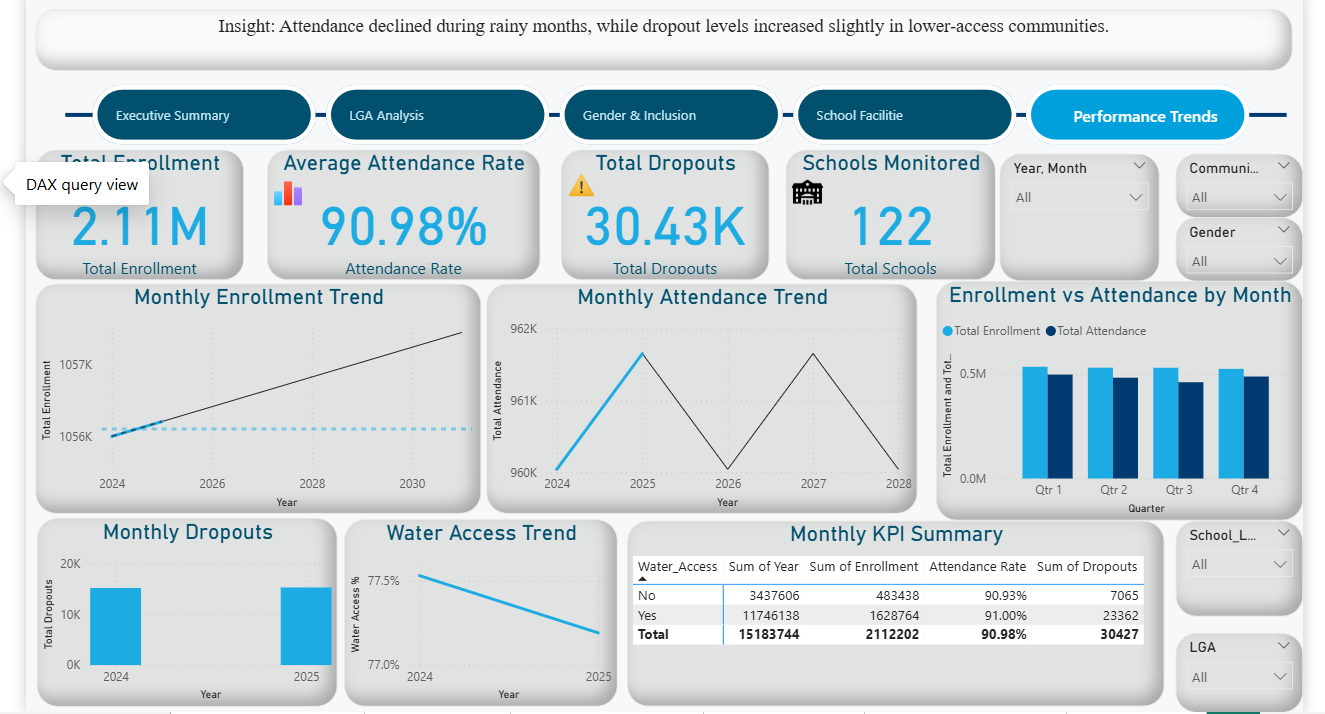

This screenshot's page, from the dashboard's own definition file:
{"tool":"powerbi","page":{"name":"Performance Trends ","canvas":[1280,720],"ordinal":4},"visuals":[{"type":"textbox","box":[10.1,14.4,1260,61.9],"z":0},{"type":"lineChart","title":"Monthly Enrollment Trend","fields":{"Category":["Raw_Data.Date.Variation.Date Hierarchy.Year","Raw_Data.Date.Variation.Date Hierarchy.Quarter","Raw_Data.Date.Variation.Date Hierarchy.Month","Raw_Data.Date.Variation.Date Hierarchy.Day"],"Y":["Raw_Data.Total Enrollment"]},"box":[10.1,290.9,446.4,230.4],"z":1000},{"type":"card","title":"Total Enrollment","fields":{"Values":["Raw_Data.Total Enrollment"]},"box":[10.1,156.2,208.8,131],"z":2000,"group":"g1"},{"type":"lineChart","title":"Monthly Attendance Trend","fields":{"Category":["Raw_Data.Date.Variation.Date Hierarchy.Year","Raw_Data.Date.Variation.Date Hierarchy.Quarter","Raw_Data.Date.Variation.Date Hierarchy.Month","Raw_Data.Date.Variation.Date Hierarchy.Day"],"Y":["Raw_Data.Total Attendance"]},"box":[460.8,290.9,432,230.4],"z":2000},{"type":"clusteredColumnChart","title":"Enrollment vs Attendance by Month","fields":{"Category":["Raw_Data.Date.Variation.Date Hierarchy.Year","Raw_Data.Date.Variation.Date Hierarchy.Quarter","Raw_Data.Date.Variation.Date Hierarchy.Month","Raw_Data.Date.Variation.Date Hierarchy.Day"],"Y":["Raw_Data.Total Enrollment","Raw_Data.Total Attendance"]},"box":[912,288,368,240],"z":3000},{"type":"card","title":"Average Attendance Rate","fields":{"Values":["Raw_Data.Attendance Rate"]},"box":[241.9,156.2,273.6,131],"z":4000,"group":"g2"},{"type":"clusteredColumnChart","title":"Monthly Dropouts","fields":{"Category":["Raw_Data.Date.Variation.Date Hierarchy.Year","Raw_Data.Date.Variation.Date Hierarchy.Quarter","Raw_Data.Date.Variation.Date Hierarchy.Month","Raw_Data.Date.Variation.Date Hierarchy.Day"],"Y":["Raw_Data.Total Dropouts"]},"box":[10.2,525.4,301.5,188.8],"z":4000},{"type":"lineChart","title":"Water Access Trend","fields":{"Category":["Raw_Data.Date.Variation.Date Hierarchy.Year","Raw_Data.Date.Variation.Date Hierarchy.Quarter","Raw_Data.Date.Variation.Date Hierarchy.Month","Raw_Data.Date.Variation.Date Hierarchy.Day"],"Y":["Raw_Data.Water Access %"]},"box":[319,526.8,273.7,187.3],"z":5000},{"type":"card","title":"Total Dropouts","fields":{"Values":["Raw_Data.Total Dropouts"]},"box":[535.7,156.2,208.8,131],"z":6000,"group":"g3"},{"type":"pivotTable","title":"Monthly KPI Summary","fields":{"Values":["Sum(Raw_Data.Year)","Sum(Raw_Data.Enrollment)","Raw_Data.Attendance Rate","Sum(Raw_Data.Dropouts)"],"Rows":["Raw_Data.Water_Access"]},"box":[602.9,528.3,538.5,185.9],"z":6000},{"type":"slicer","fields":{"Values":["Raw_Data.Year","Raw_Data.Month"]},"box":[976,160,160,128],"z":7000},{"type":"card","title":"Schools Monitored","fields":{"Values":["Raw_Data.Total Schools"]},"box":[761.8,156.2,210.2,131],"z":8000,"group":"g4"},{"type":"slicer","fields":{"Values":["Raw_Data.LGA"]},"box":[1152,640,128,80],"z":8000},{"type":"slicer","fields":{"Values":["Raw_Data.Community_Type"]},"box":[1152,160,128,64],"z":9000},{"type":"slicer","fields":{"Values":["Raw_Data.School_Level"]},"box":[1152,528,128,96],"z":10000},{"type":"slicer","fields":{"Values":["Raw_Data.Gender"]},"box":[1152,224,128,64],"z":11000},{"type":"group","id":"g1","title":"Group 1","box":[10.1,156.2,208.8,131],"z":12000},{"type":"group","id":"g2","title":"Group 2","box":[241.9,156.2,273.6,131],"z":13000},{"type":"group","id":"g3","title":"Group 3","box":[531.4,156.2,213.1,131],"z":14000},{"type":"group","id":"g4","title":"Group 4","box":[761.8,156.2,210.2,131],"z":15000},{"type":"shape","box":[38.9,90.7,1224,60.5],"z":16000},{"type":"image","box":[10.1,172,44.6,50.4],"z":16000,"group":"g1"},{"type":"pageNavigator","box":[66.2,90.7,1160.6,60.5],"z":17000},{"type":"image","box":[241.9,172,41.8,56.2],"z":17000,"group":"g2"},{"type":"image","box":[531.4,172,49,38.9],"z":18000,"group":"g3"},{"type":"image","box":[761.8,172,43.2,51.8],"z":19000,"group":"g4"}]}

Visuals, with their boxes on the page's 1280x720 design canvas (x1, y1, x2, y2). These are canvas units, not pixel positions in the 1325x714 screenshot, which may show the page scaled, cropped or inside an application window:
textbox: 10 14 1270 76
"Monthly Enrollment Trend" lineChart: 10 291 456 521
"Total Enrollment" card: 10 156 219 287
"Monthly Attendance Trend" lineChart: 461 291 893 521
"Enrollment vs Attendance by Month" clusteredColumnChart: 912 288 1280 528
"Average Attendance Rate" card: 242 156 516 287
"Monthly Dropouts" clusteredColumnChart: 10 525 312 714
"Water Access Trend" lineChart: 319 527 593 714
"Total Dropouts" card: 536 156 744 287
"Monthly KPI Summary" pivotTable: 603 528 1141 714
slicer - Raw_Data.Year x Raw_Data.Month: 976 160 1136 288
"Schools Monitored" card: 762 156 972 287
slicer - Raw_Data.LGA: 1152 640 1280 720
slicer - Raw_Data.Community_Type: 1152 160 1280 224
slicer - Raw_Data.School_Level: 1152 528 1280 624
slicer - Raw_Data.Gender: 1152 224 1280 288
"Group 1" group: 10 156 219 287
"Group 2" group: 242 156 516 287
"Group 3" group: 531 156 744 287
"Group 4" group: 762 156 972 287
shape: 39 91 1263 151
image: 10 172 55 222
pageNavigator: 66 91 1227 151
image: 242 172 284 228
image: 531 172 580 211
image: 762 172 805 224
